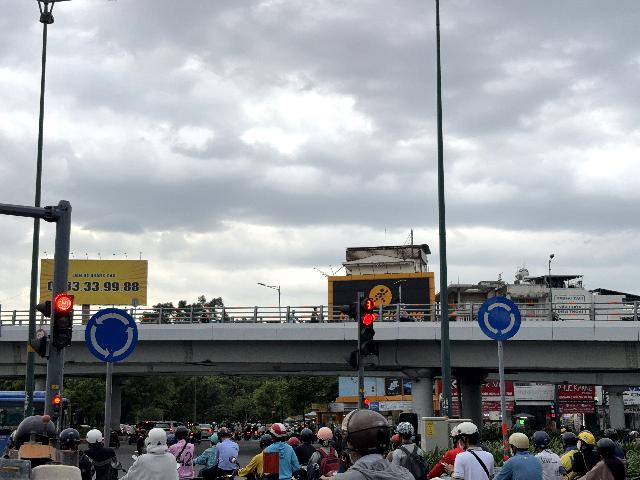noi-giao-nhau-chay-theo-vong-xuyen: (85, 308, 139, 363), (477, 296, 521, 341)
